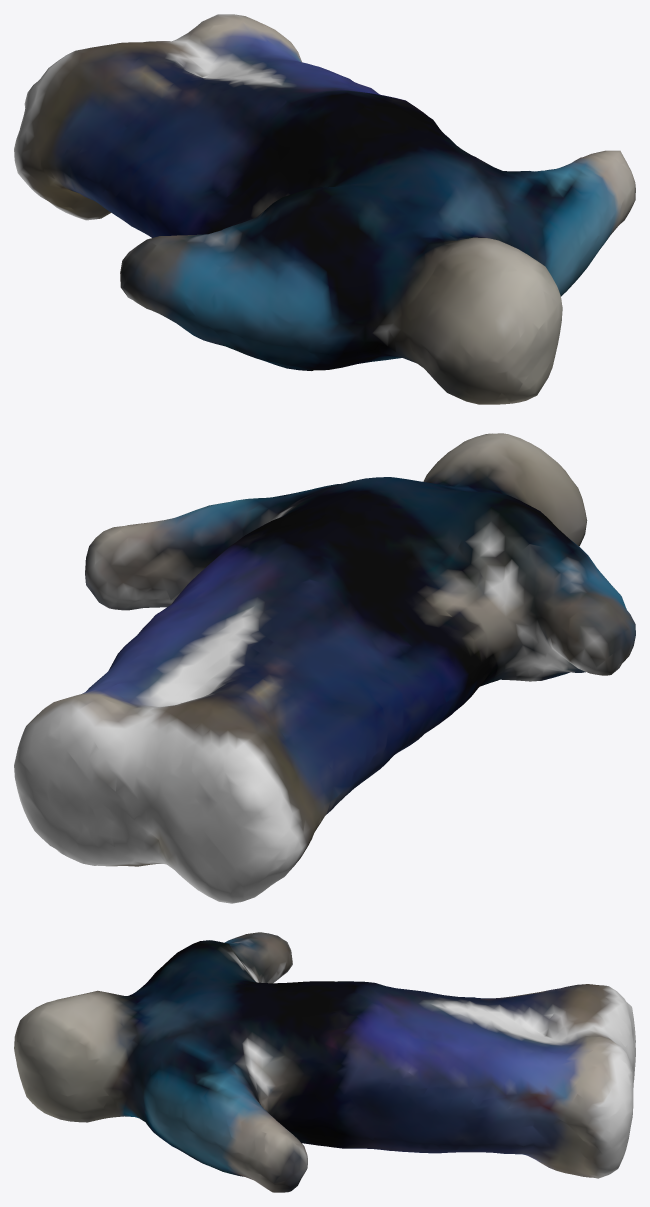
The model's file is grandfather.glb.
3 renders of one model, top to bottom at view 1: azimuth 30°, elevation 25°; view 2: azimuth 150°, elevation 25°; view 3: azimuth 270°, elevation 25°, orthographic. The views are drawn at different scales.
Bounding box in the file's own units: 0.7562 × 0.3056 × 1.
